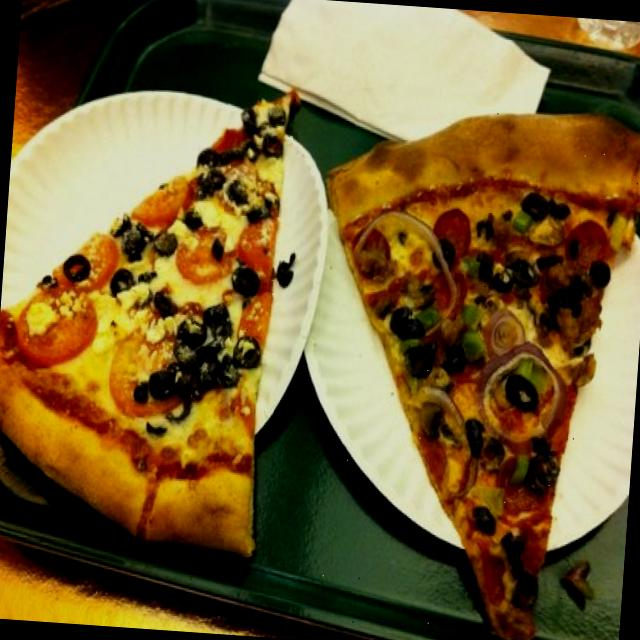Bell Pepper: (501, 440, 540, 500), (512, 346, 544, 391), (408, 297, 442, 339), (511, 200, 538, 248), (452, 296, 482, 338), (457, 326, 485, 366)
Olive: (532, 252, 588, 339), (401, 326, 441, 399), (134, 358, 188, 410), (503, 556, 548, 618), (188, 136, 242, 184), (504, 247, 550, 302), (450, 410, 494, 465), (248, 119, 291, 174), (184, 348, 236, 390), (467, 240, 505, 294), (226, 326, 262, 382), (188, 168, 232, 213), (225, 104, 270, 148), (256, 86, 293, 138), (385, 292, 414, 358), (146, 274, 178, 329), (514, 184, 558, 224), (501, 368, 539, 413), (151, 221, 184, 272), (197, 298, 230, 348), (225, 253, 260, 300), (466, 495, 498, 542), (223, 168, 254, 216), (429, 225, 459, 272), (444, 330, 466, 392), (58, 248, 90, 286), (492, 524, 524, 560), (588, 252, 612, 294), (104, 264, 140, 289)
pizza: (330, 116, 640, 640), (0, 93, 295, 555)
tomato: (106, 310, 194, 420), (14, 284, 102, 375), (50, 222, 135, 298), (122, 168, 198, 234), (174, 227, 236, 304), (233, 215, 283, 282), (235, 292, 277, 364)
